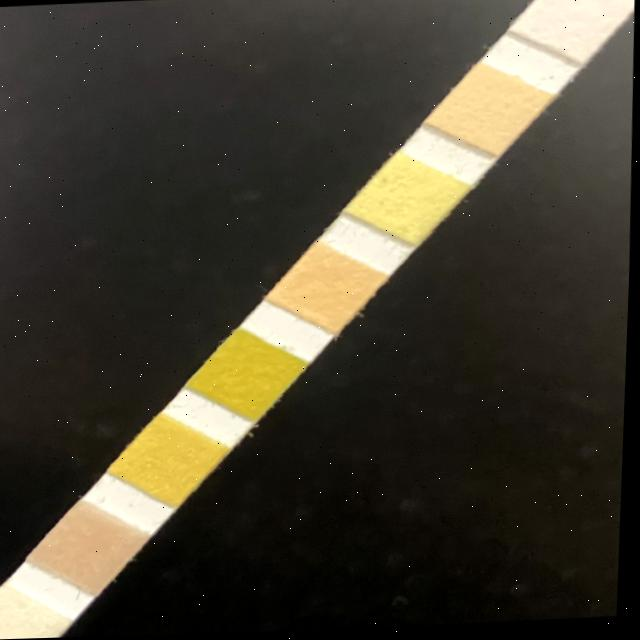Bilirubin: (0, 603, 50, 640)
Blood: (215, 351, 284, 399)
Ketone: (56, 526, 125, 574)
Nitrite: (539, 0, 609, 41)
Protein: (372, 176, 441, 225)
SpGravity: (136, 436, 205, 485)
Urobilinogen: (453, 88, 523, 136)
pH: (294, 263, 363, 311)
